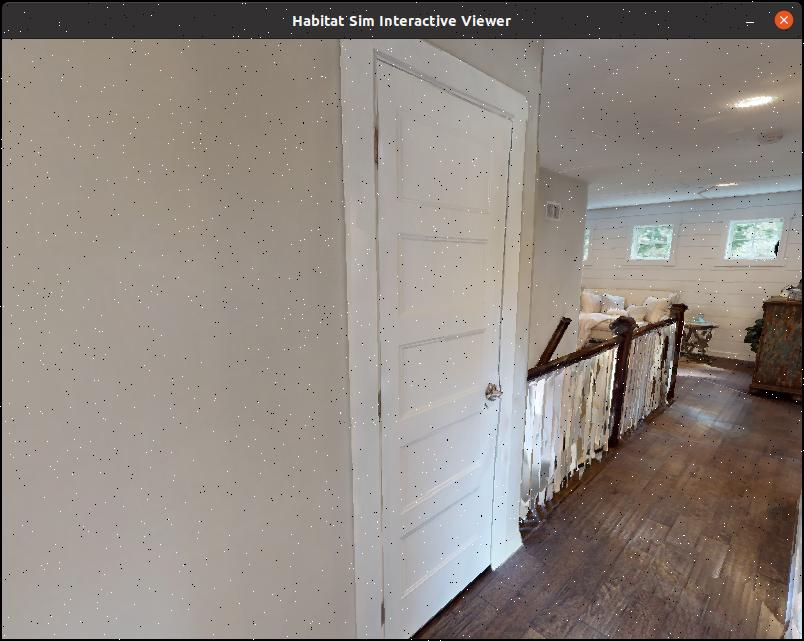door: (347, 43, 525, 617)
